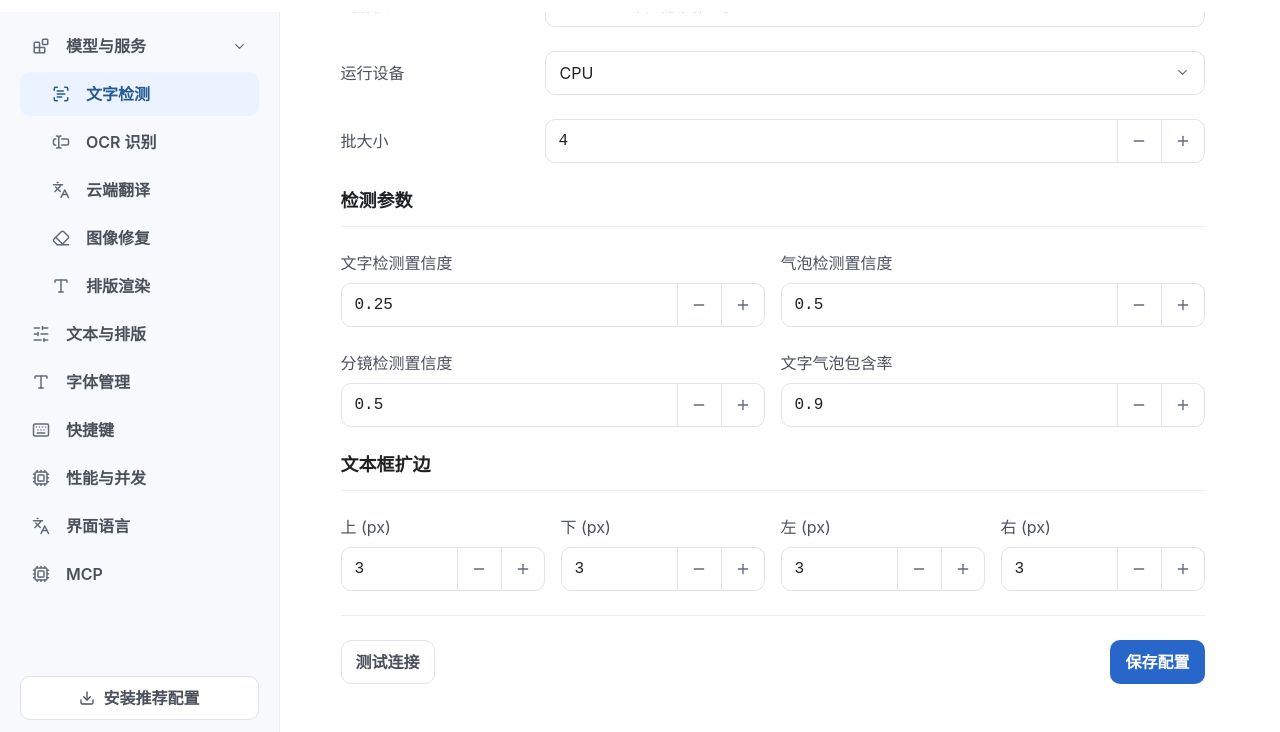
Test: classification model form › shows a localized success toast after model settings are saved in zh-CN
The image size is (1280, 732).
(page scrolled)
Check: the field labelled "文字检测置信度" is shown, box [340,283,676,327]
Click the button "保存配置" at (1158, 662), box [1110,640,1204,684]
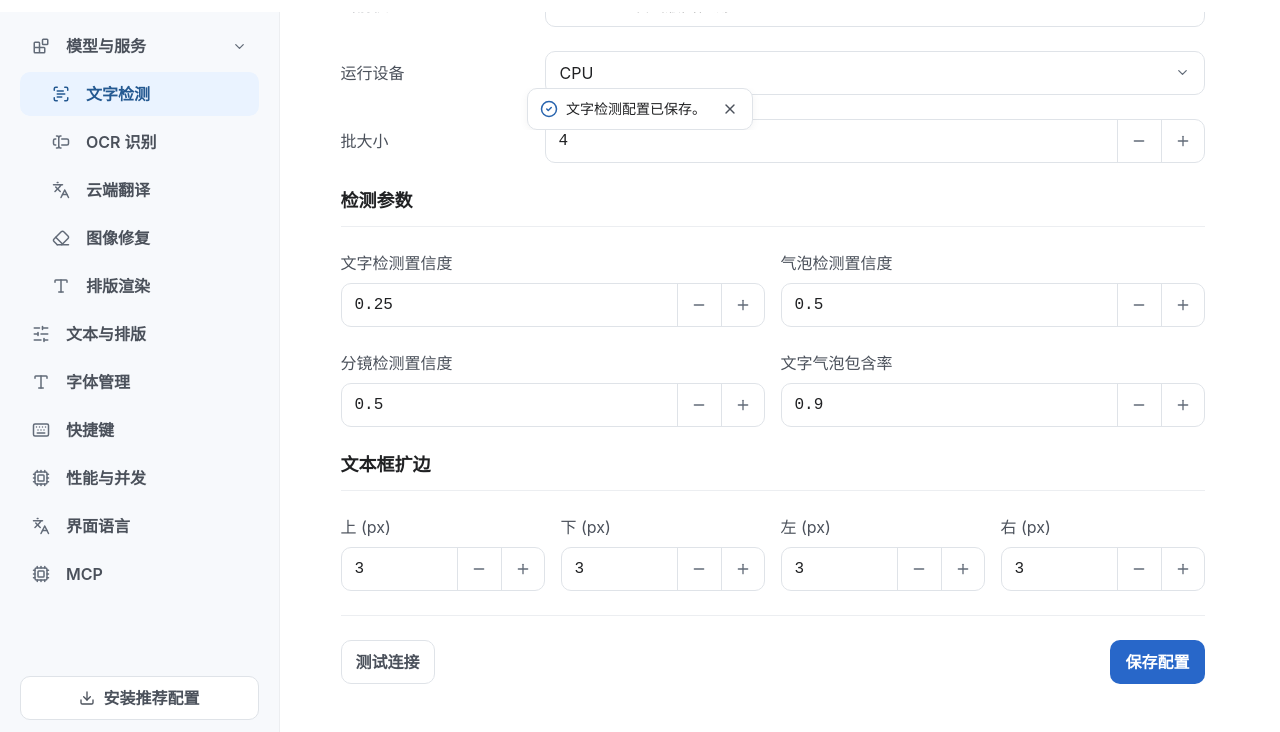
Check: the number of messages named "保存成功" is 1, box [527,88,753,130]
Click the button named "关闭提示" at (730, 109), box [714,93,746,125]
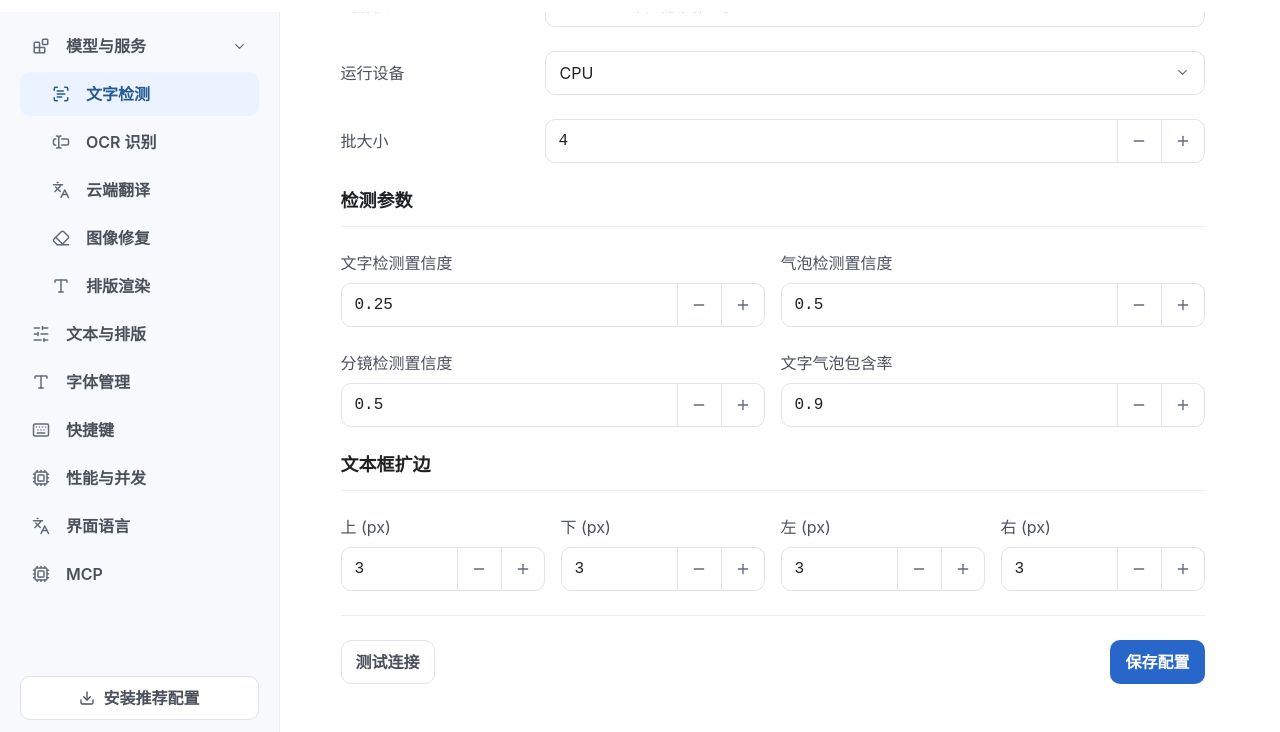
Check: the button "保存配置" is enabled, box [1110,640,1204,684]
Check: the message "保存成功" is gone
